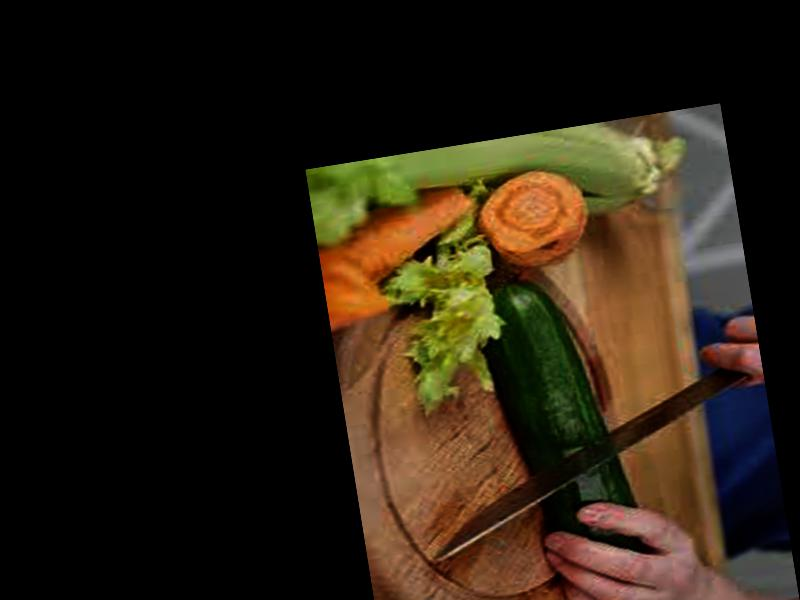Cucumber: (480, 266, 644, 570)
